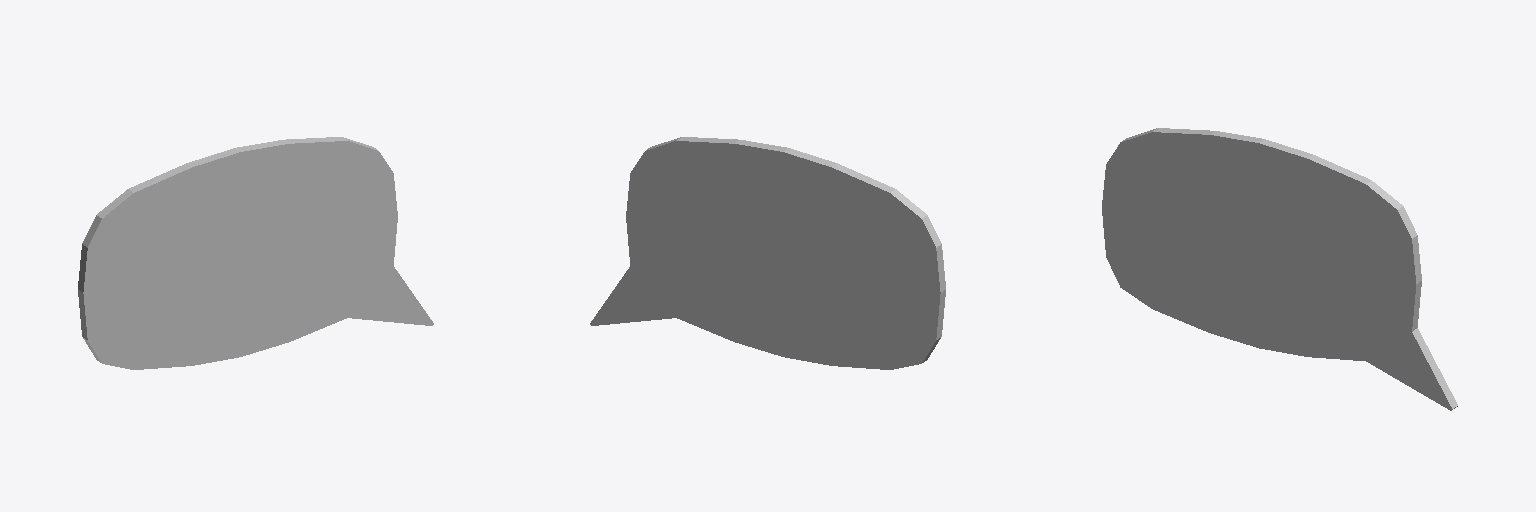
File: speechBubble1.obj
3 views of the same model, side by side, from view 1: azimuth 30°, elevation 25°; view 2: azimuth 150°, elevation 25°; view 3: azimuth 330°, elevation 25° (orthographic).
Visible parts, largest first — view 1: speechBubble; view 2: speechBubble; view 3: speechBubble.
Boxes of the visible parts, <box> form: speechBubble: <box>78,137,433,369</box>; speechBubble: <box>590,137,945,369</box>; speechBubble: <box>1102,128,1457,410</box>.
Bounding box in the file's own units: 2.23 × 1.34 × 0.0625.